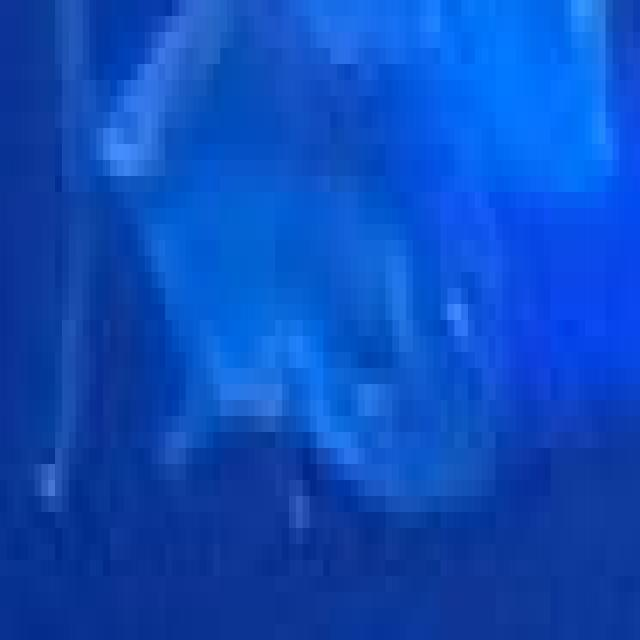fish: (7, 16, 640, 640)
